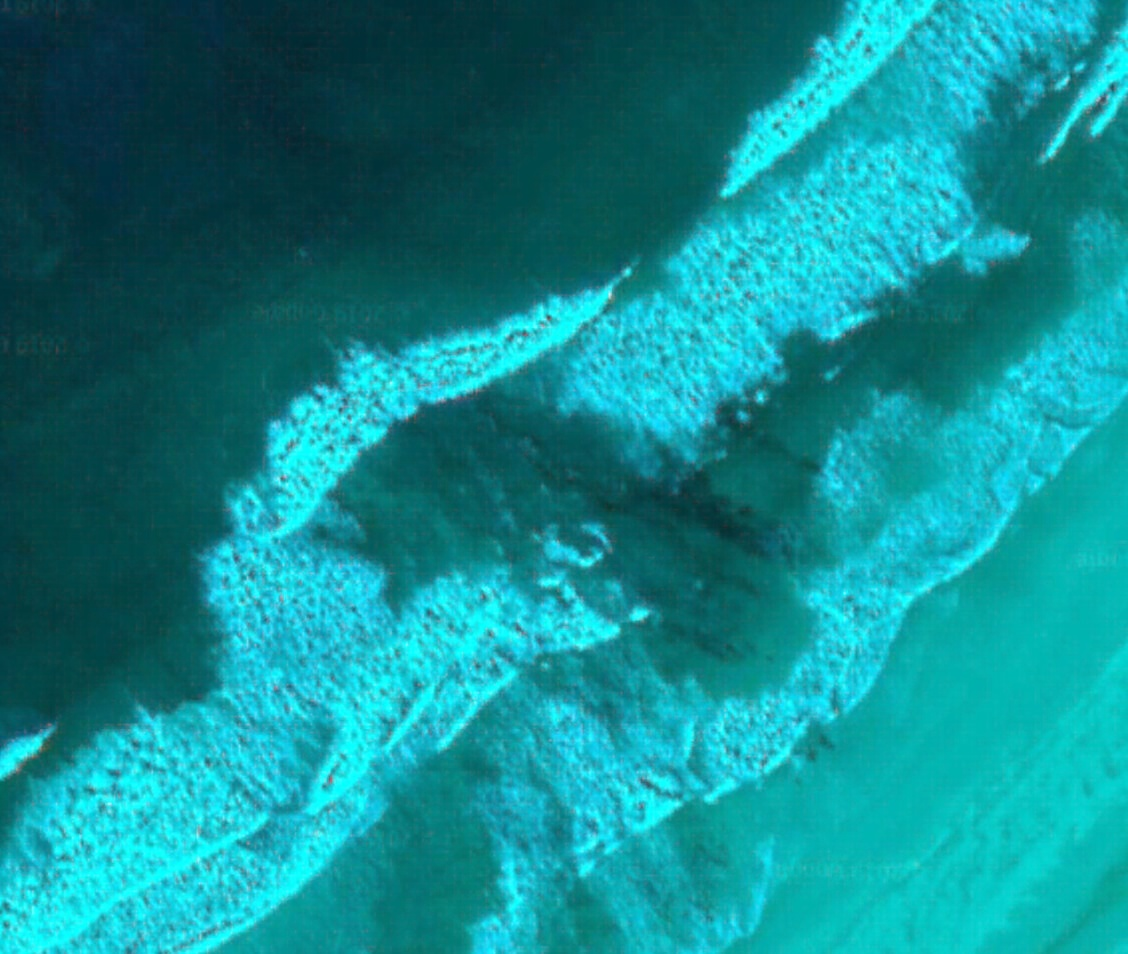rip_current: (244, 328, 846, 723)
